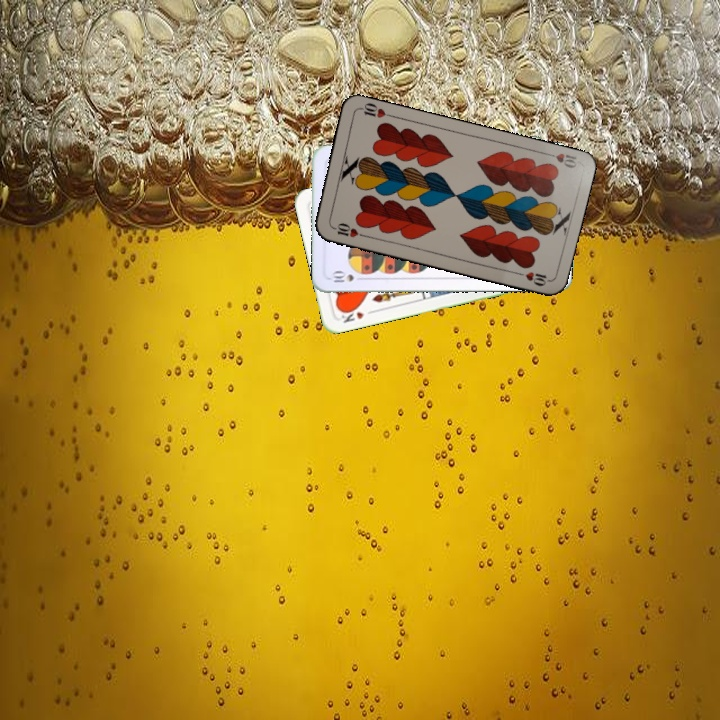H10: (540, 148, 579, 171), (328, 219, 368, 240)
HK: (337, 304, 367, 326)
S10: (328, 269, 356, 285)
